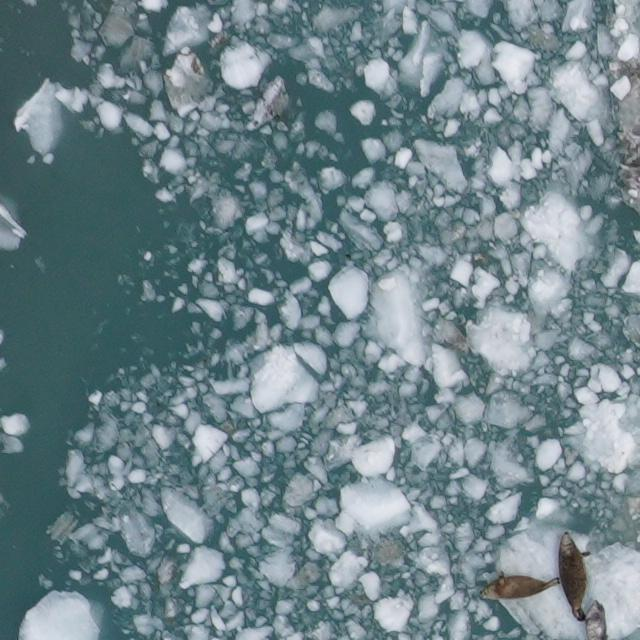seal: (554, 531, 592, 622), (481, 573, 562, 600)
